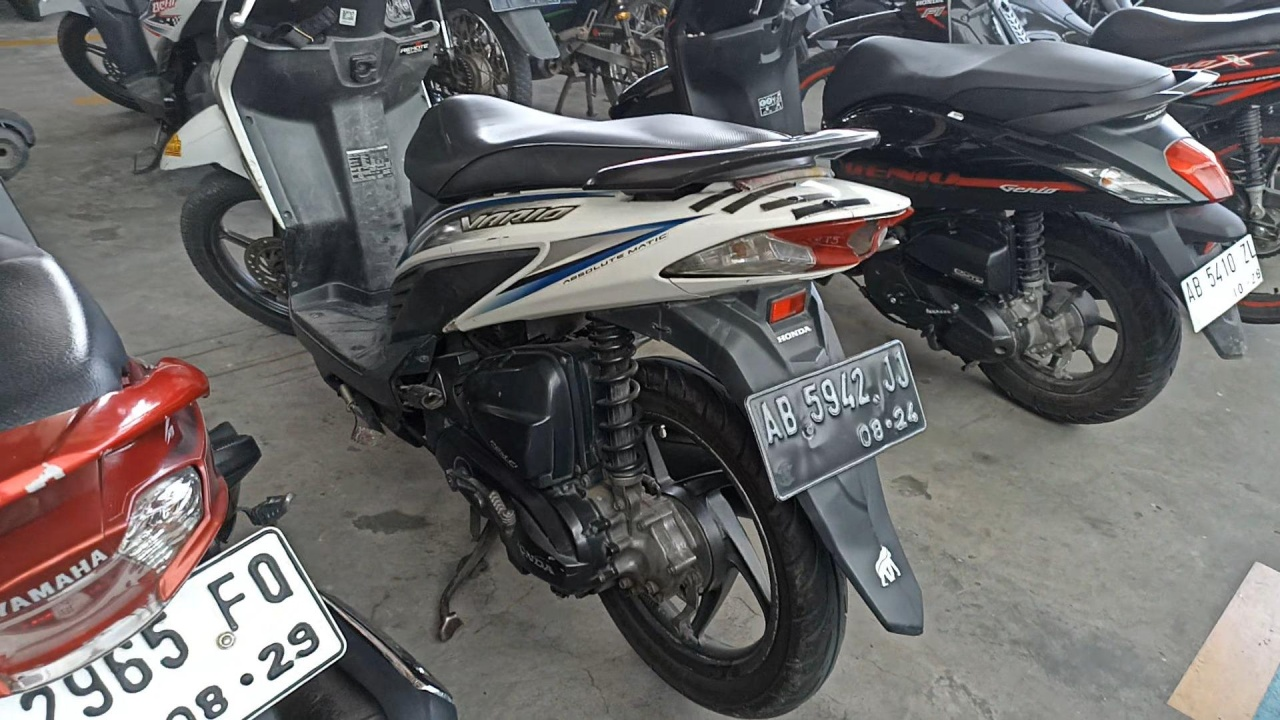plate: (746, 340, 928, 502), (1181, 233, 1264, 335)
